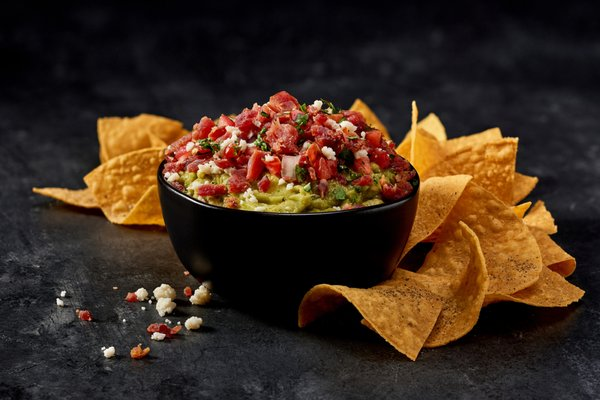sushi: (156, 91, 420, 290)
